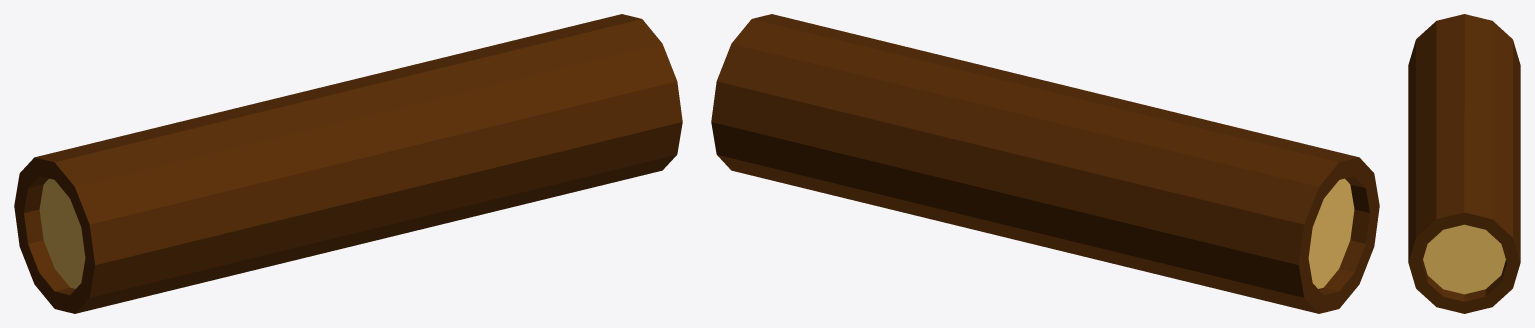
The model's file is log.glb.
3 views of the same model, side by side, from view 1: azimuth 30°, elevation 25°; view 2: azimuth 150°, elevation 25°; view 3: azimuth 270°, elevation 25° (orthographic). The views are drawn at different scales.
Parts seen in each view (by area): view 1: log; view 2: log; view 3: log.
Boxes of the visible parts, x1,y1,x2,y2 form: log: (14,14,682,313); log: (711,14,1379,313); log: (1408,14,1520,313).
Size of the model in its own units: 8.39 by 2 by 2.
